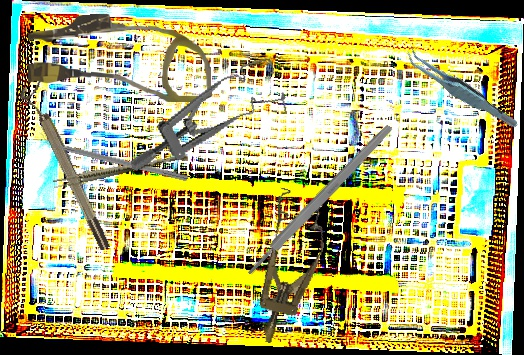Cannula: (27, 12, 212, 105)
Chopper: (36, 130, 192, 182)
Fixation Ring: (17, 80, 114, 256)
Scalpel Handle: (244, 122, 395, 278)
Speculum: (112, 55, 295, 174), (239, 186, 336, 351)
Tissue Forceps: (402, 29, 520, 149), (52, 148, 189, 192)
